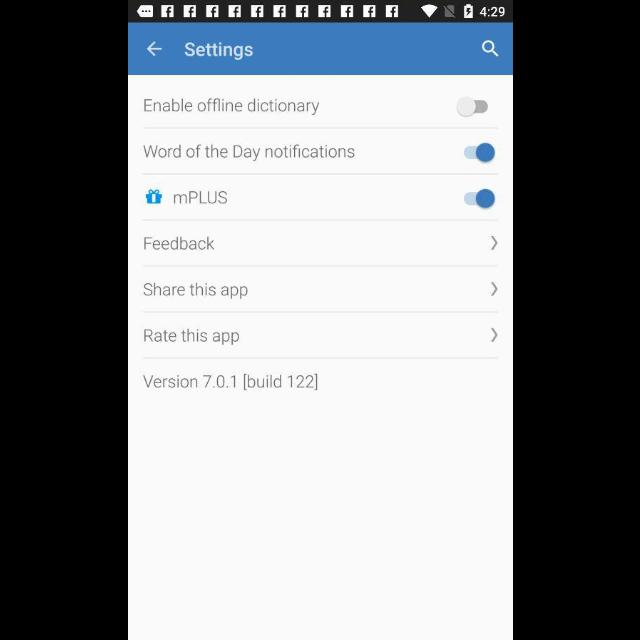icon: (144, 42, 162, 58), (482, 41, 498, 58), (144, 190, 162, 204), (490, 282, 498, 296), (489, 328, 496, 342), (489, 236, 496, 250)
switch: (456, 96, 488, 118), (462, 143, 494, 163), (462, 190, 494, 208)
text: (143, 144, 354, 162), (143, 374, 317, 391), (144, 98, 318, 115), (143, 282, 247, 300), (144, 328, 238, 346), (184, 42, 253, 62), (144, 236, 214, 250), (173, 191, 227, 205)
toolbar: (128, 24, 512, 76)
uppertaskbar: (128, 1, 512, 23)
